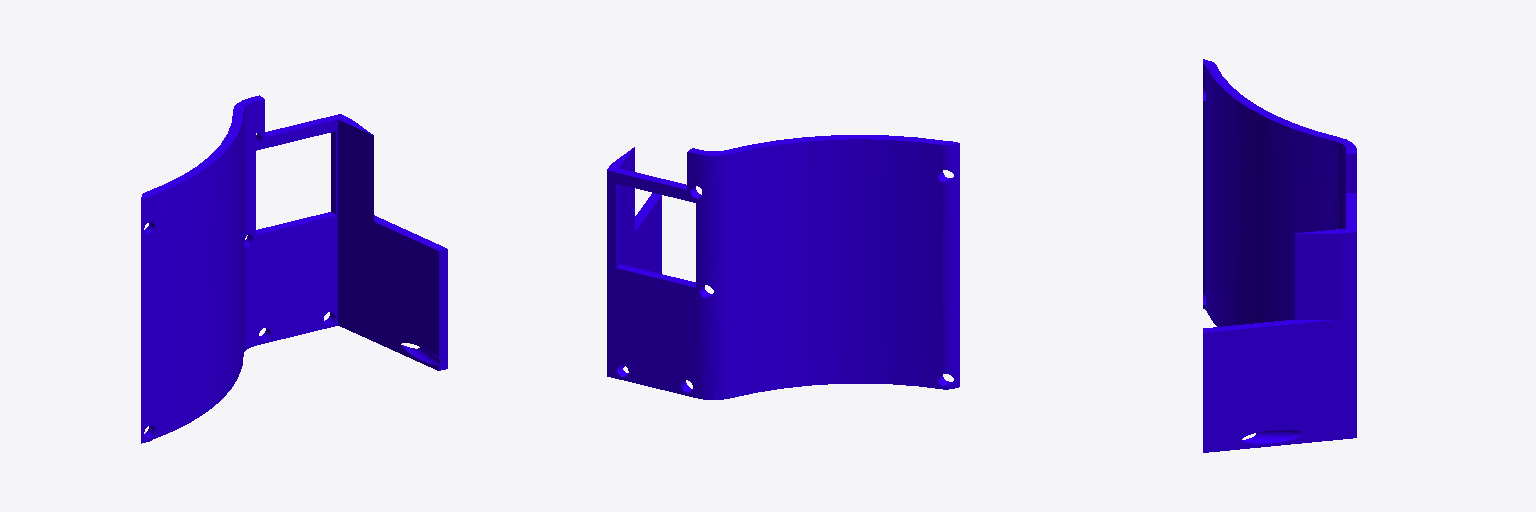
Rendered from frontal.obj.
3 views of the same model, side by side, from view 1: azimuth 30°, elevation 25°; view 2: azimuth 150°, elevation 25°; view 3: azimuth 270°, elevation 25° (orthographic).
Size of the model in its own units: 101 by 76.7 by 43.83.